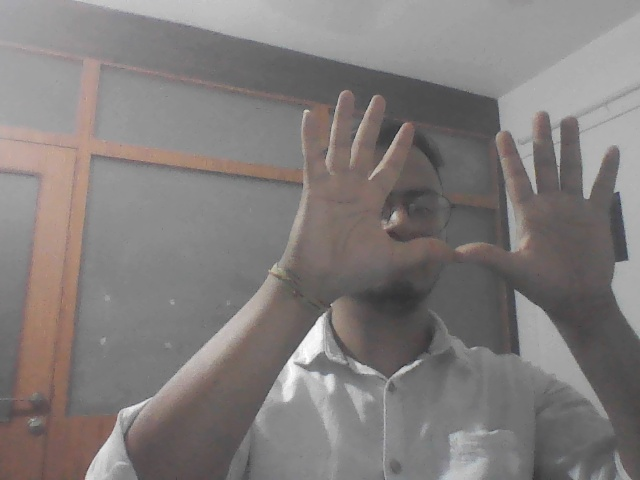Cheers: (289, 85, 634, 333)
